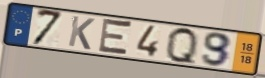4: (135, 25, 161, 59)
7: (30, 8, 65, 48)
9: (200, 31, 234, 68)
E: (96, 16, 135, 58)
K: (66, 14, 97, 52)
Q: (165, 25, 199, 67)
